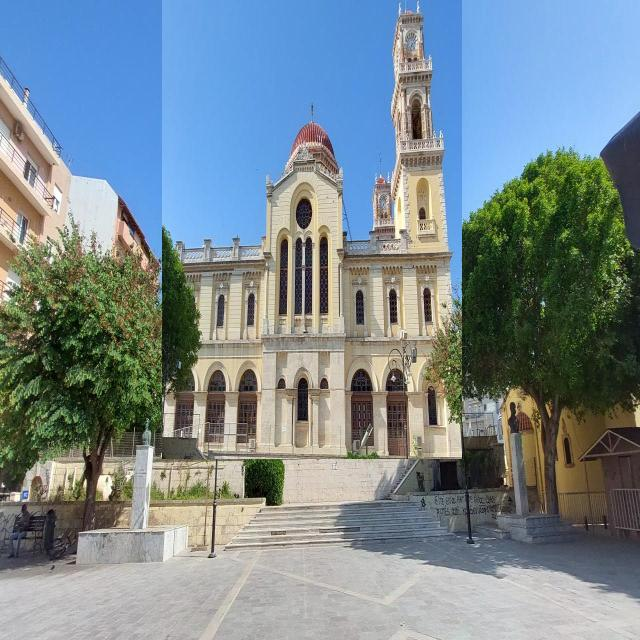Agios Minas: (164, 1, 464, 460)
